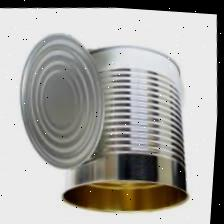metal: (43, 32, 207, 224), (7, 29, 121, 180)
